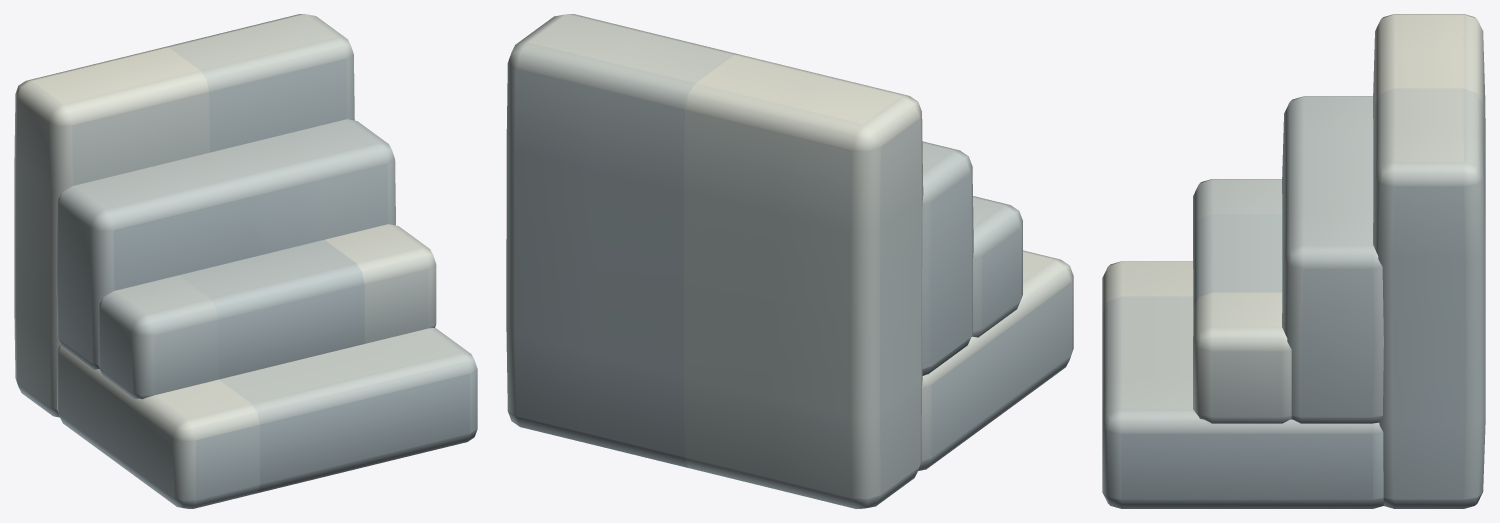
The model's file is Quartz_4x4_Stair_Straight.fbx.
3 views of the same model, side by side, from view 1: azimuth 30°, elevation 25°; view 2: azimuth 150°, elevation 25°; view 3: azimuth 270°, elevation 25° (orthographic). The views are drawn at different scales.
Parts seen in each view (by area): view 1: Quartz_4x4_Stair_Straight_LOD0; view 2: Quartz_4x4_Stair_Straight_LOD0; view 3: Quartz_4x4_Stair_Straight_LOD0.
Part boxes in pixels (x1,y1,x2,y2): Quartz_4x4_Stair_Straight_LOD0: [14, 14, 477, 508]; Quartz_4x4_Stair_Straight_LOD0: [506, 14, 1073, 508]; Quartz_4x4_Stair_Straight_LOD0: [1102, 14, 1485, 508].
Size of what is drawn, in the model's own units: 1.06 by 1.05 by 1.05.
